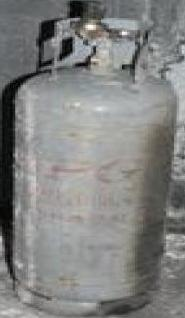cylinder: (1, 1, 185, 318)
